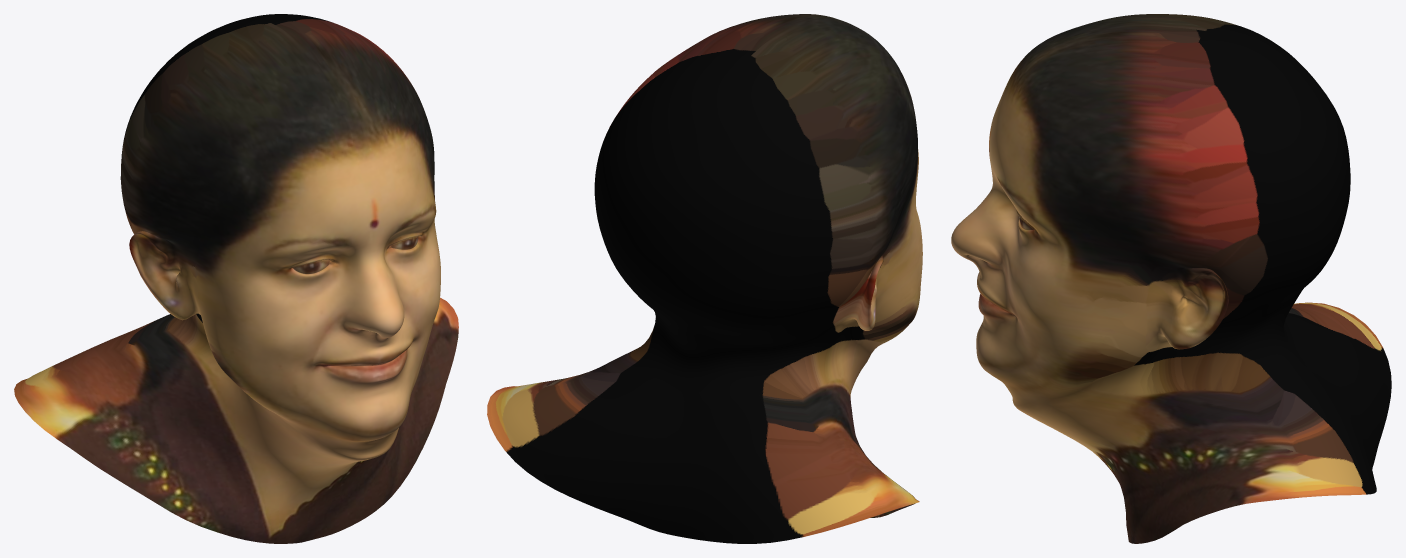
Rendered from LalithaModel.glb.
3 renders of one model, left to right at view 1: azimuth 30°, elevation 25°; view 2: azimuth 150°, elevation 25°; view 3: azimuth 270°, elevation 25°, orthographic.
Visible parts, largest first — view 1: FBHead; view 2: FBHead; view 3: FBHead.
Part boxes in pixels (<box>): FBHead: <box>14,14,458,543</box>; FBHead: <box>487,14,922,543</box>; FBHead: <box>951,14,1391,543</box>.
Size of the model in its own units: 2.28 by 2.6 by 2.07.
1 material, 1 textured.
